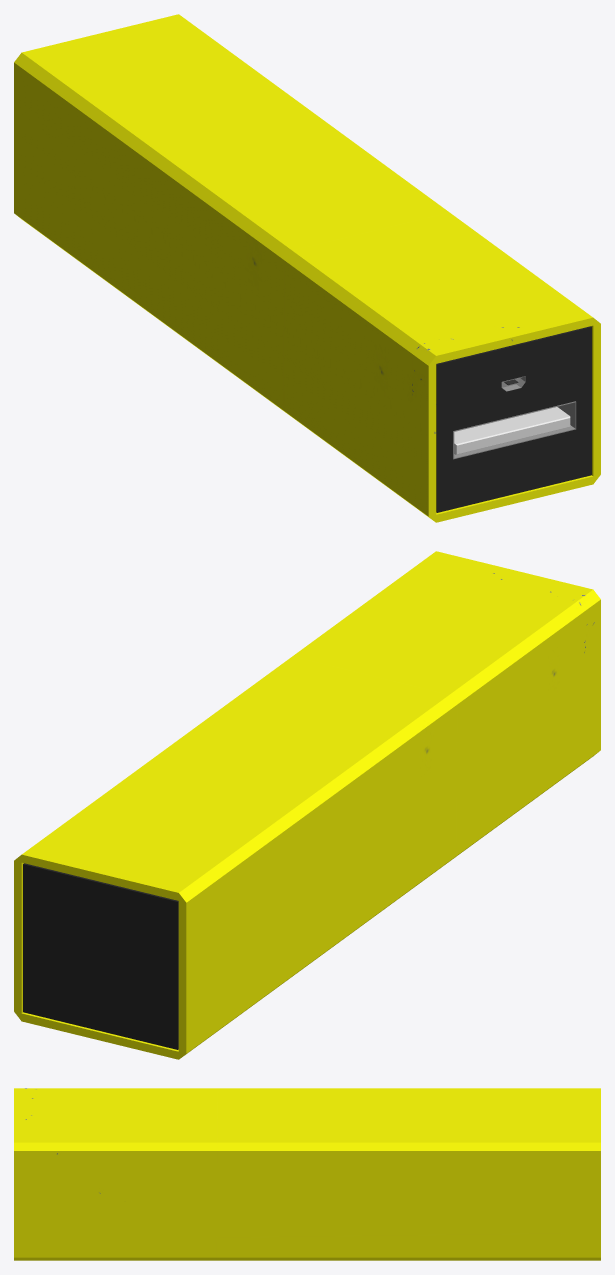
3 renders of one model, top to bottom at view 1: azimuth 30°, elevation 25°; view 2: azimuth 150°, elevation 25°; view 3: azimuth 270°, elevation 25°, orthographic. The views are drawn at different scales.
Bounding box in the file's own units: 2.35 × 2.17 × 9.78.
1 material, 1 textured.
